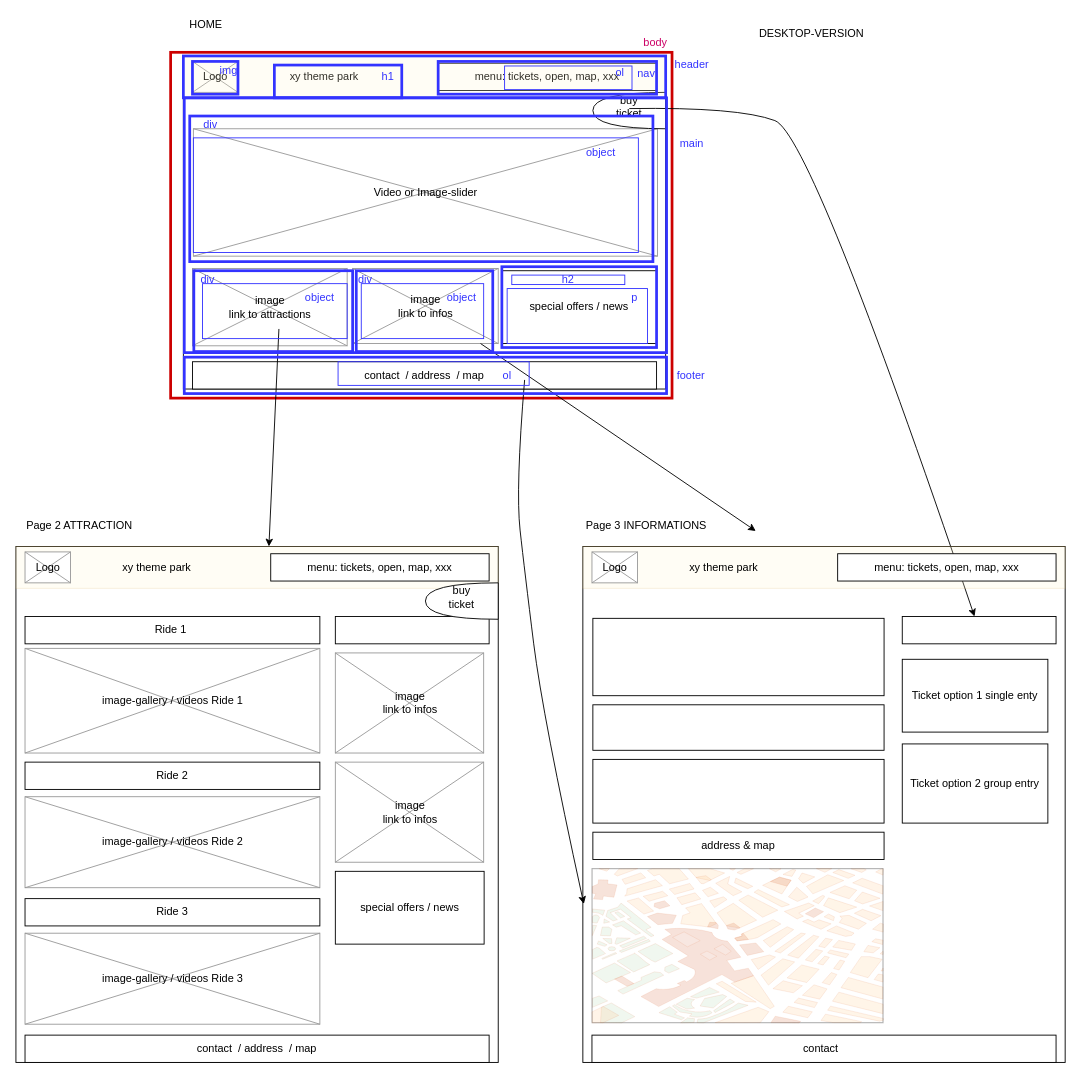
Some shapes in this 1081 by 1078 pixel diagram are drawn without their labels. Here are the shapes that lost their labels. From the top down, the centre of each, then its label:
At (x=411, y=630): "Events and food".
At (x=978, y=630): "Buy your ticket".
At (x=738, y=656): "special offers".
At (x=738, y=727): "opening hours".
At (x=738, y=790): "security & behaviour rules".
